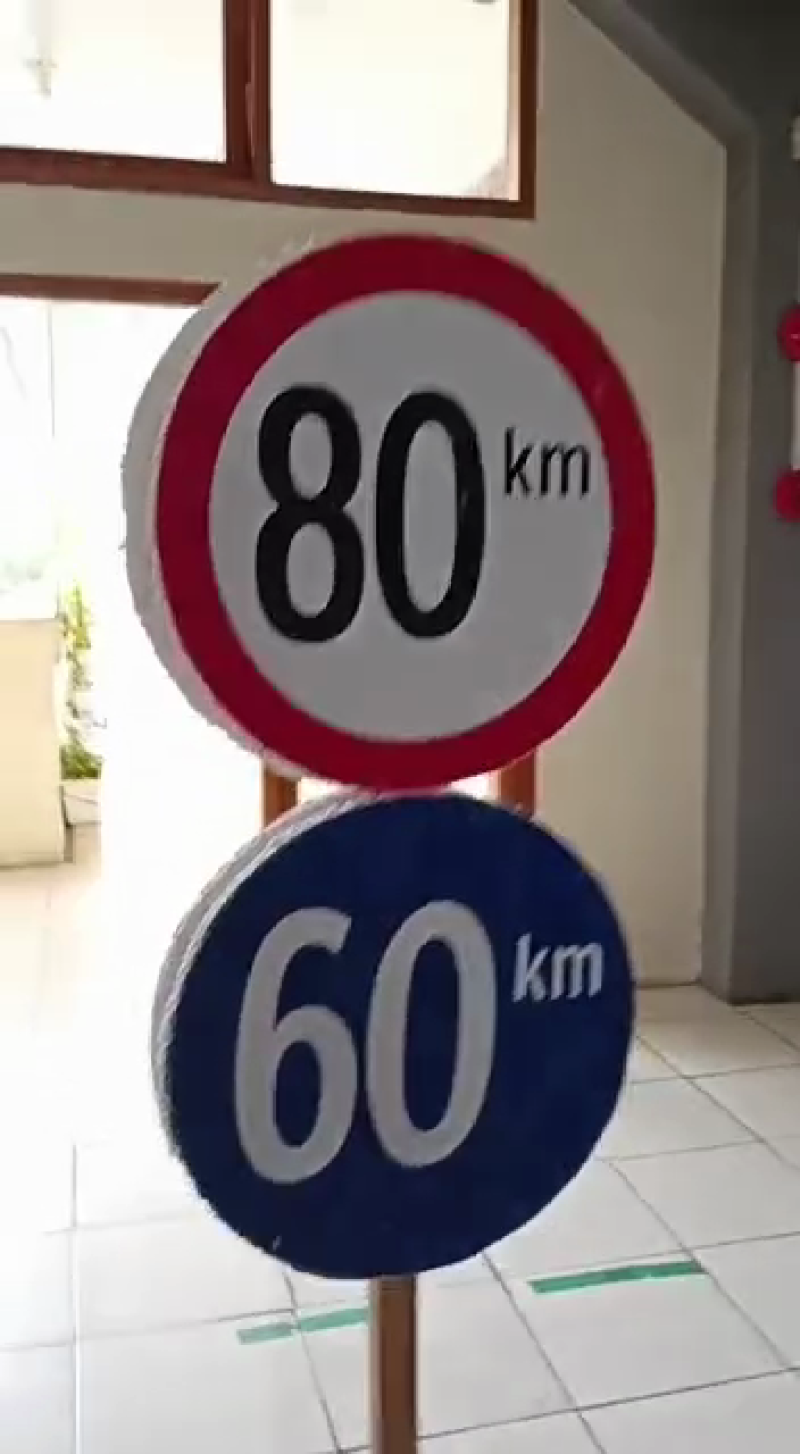batas maksimal 80kmperjam minimal 60kmperjam: (131, 224, 663, 1296)
